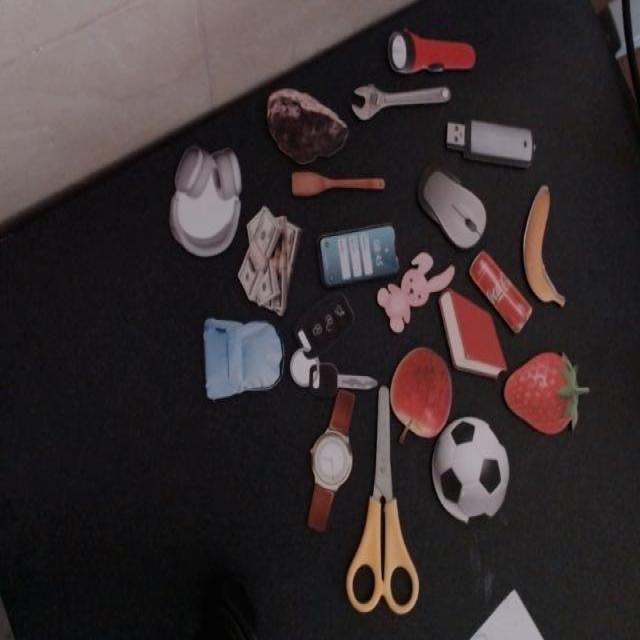Other Objects: (345, 384, 419, 613), (275, 285, 376, 426), (406, 158, 494, 260), (169, 146, 242, 258), (432, 417, 509, 523), (306, 388, 356, 532), (237, 204, 301, 316), (376, 249, 455, 333), (266, 87, 348, 164), (204, 319, 282, 399), (389, 345, 452, 444), (468, 248, 532, 333), (444, 114, 535, 171), (522, 186, 565, 306), (318, 225, 399, 287), (388, 29, 474, 73), (352, 85, 450, 119), (291, 172, 384, 195)
